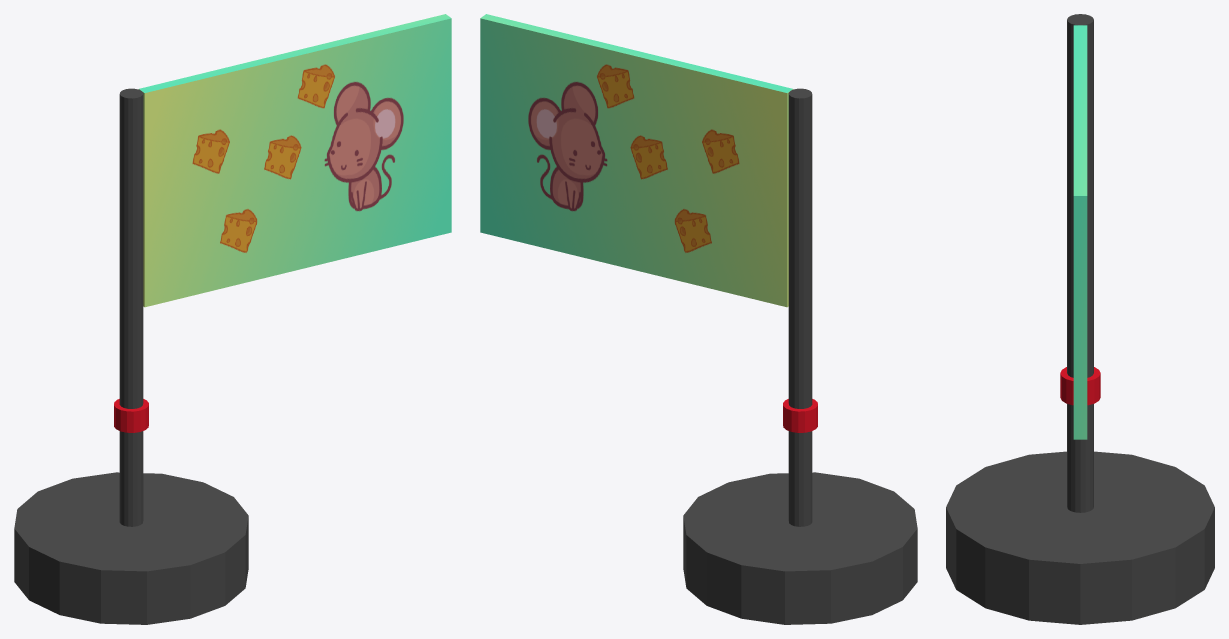
The model's file is flag_simple.glb.
3 renders of one model, left to right at view 1: azimuth 30°, elevation 25°; view 2: azimuth 150°, elevation 25°; view 3: azimuth 270°, elevation 25°, orthographic. The views are drawn at different scales.
Visible parts, largest first — view 1: Flag, FlagBase, FlagPole; view 2: Flag, FlagBase, FlagPole; view 3: FlagBase, FlagPole, Flag.
Part boxes in pixels (x1,y1,x2,y2): Flag: [138, 14, 451, 307]; FlagBase: [14, 472, 248, 624]; FlagPole: [114, 88, 148, 526]; Flag: [480, 14, 793, 307]; FlagBase: [683, 472, 917, 624]; FlagPole: [783, 88, 817, 526]; FlagBase: [946, 451, 1214, 624]; FlagPole: [1060, 14, 1100, 512]; Flag: [1073, 25, 1087, 439].
Size of the model in its own units: 4.1 by 4.5 by 2.
Materials: 3 (1 with a texture image).
